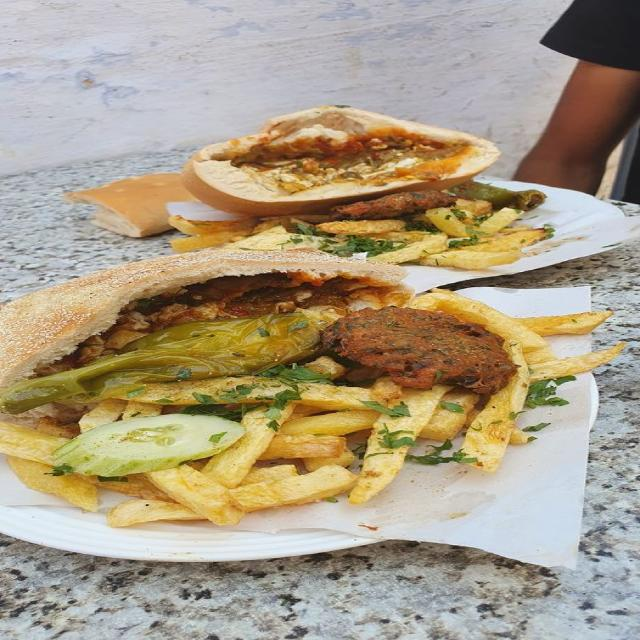Sandwitch tounsi: (0, 245, 585, 511), (210, 96, 530, 216)
